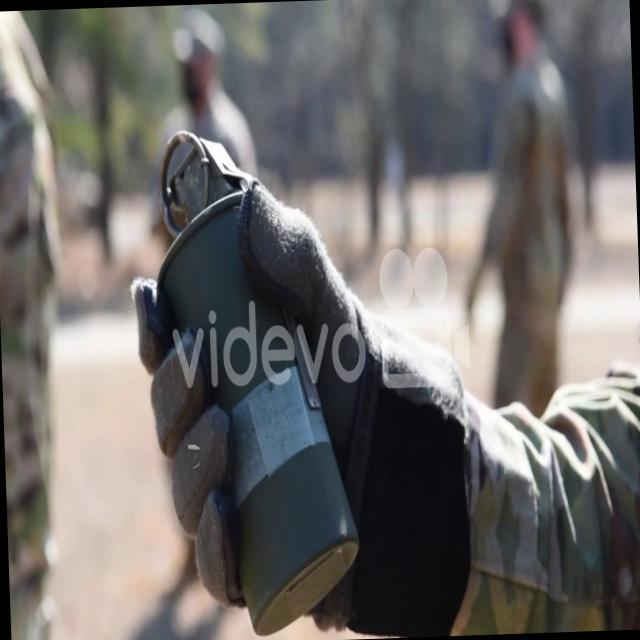grenade: (133, 122, 361, 640)
